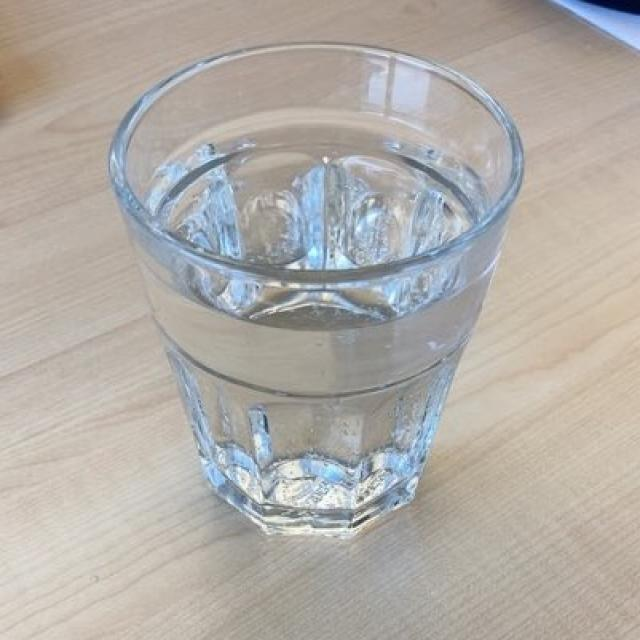water: (146, 148, 490, 509)
